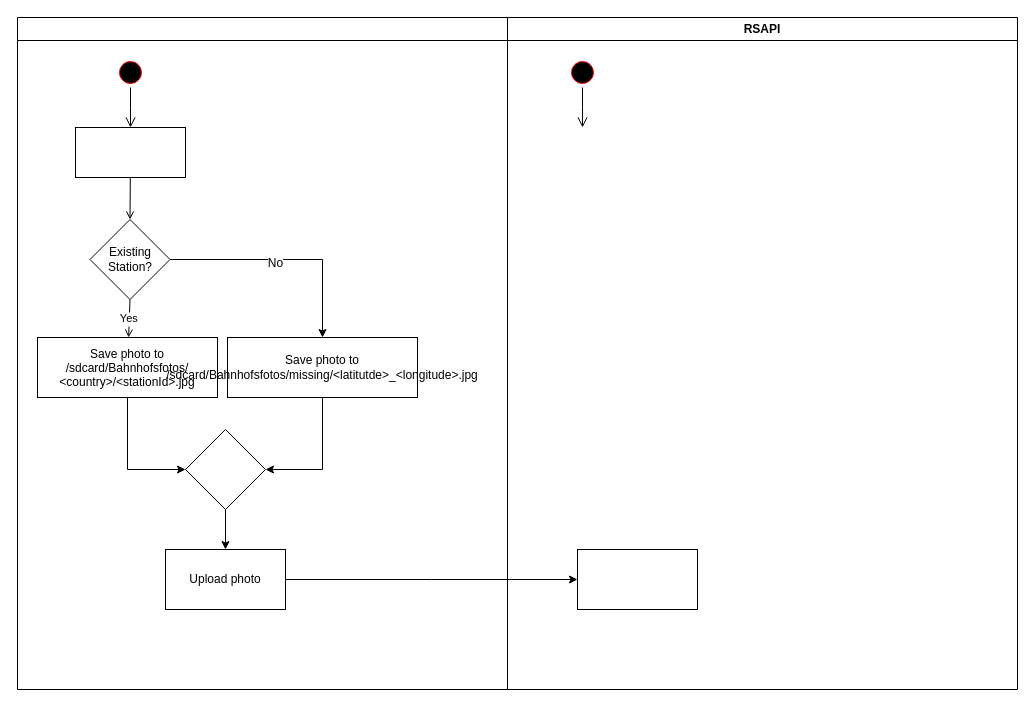
This 1035x707 diagram has some shape labels left out. Here are the shapes that lost their labels. From the top down, the box of each, then its label:
(74, 126, 186, 178): Take Photo
(16, 16, 508, 690): Bahnhofsfoto App
(576, 548, 698, 610): POST /photoUpload
